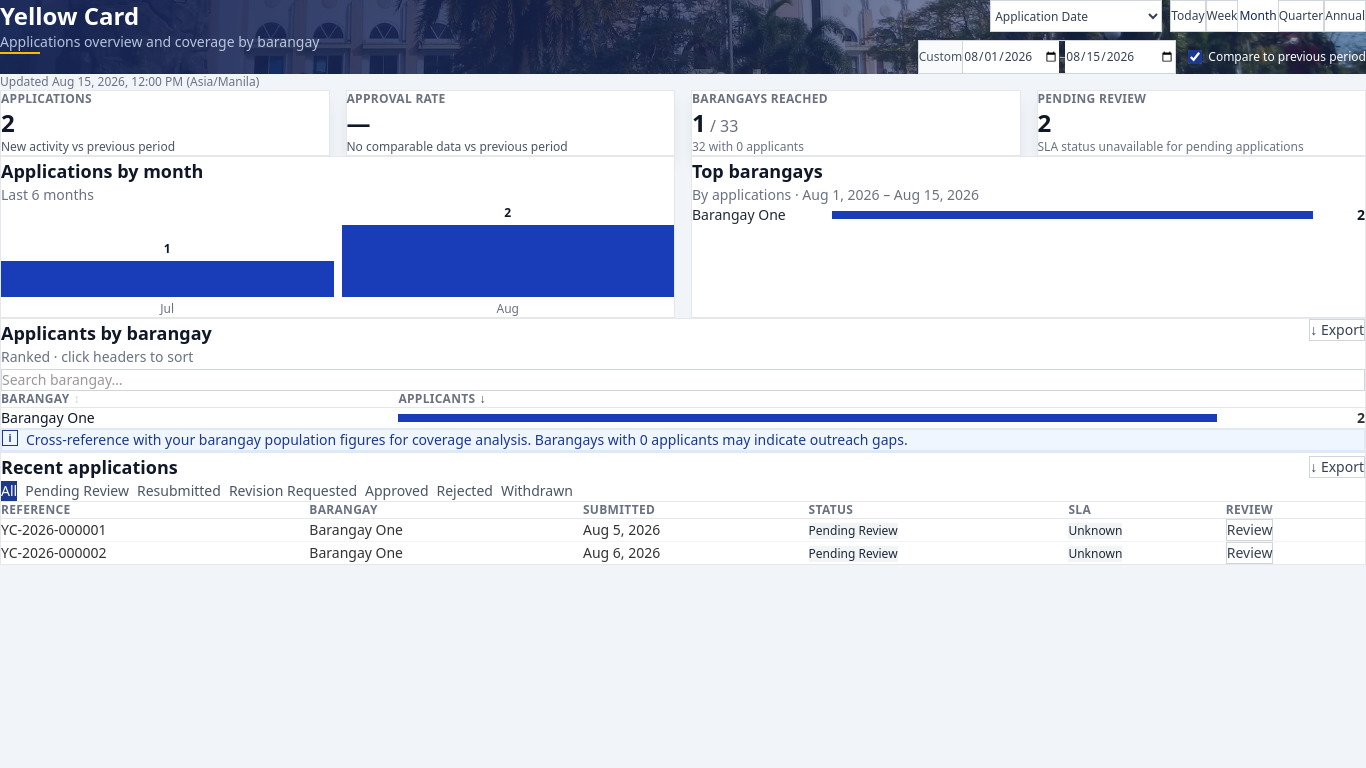
Test case: YellowCardPage › changing the date type recalculates the KPIs from the corresponding date field
Expected: the text "YC-2026-000001" is shown, [1,518,309,542]
Expected: the 1st text "2" is shown, [1,106,15,139]
Select "Approval/Completion Date" in the dropdown named "Date type" at (1076, 16), box [990,0,1162,32]
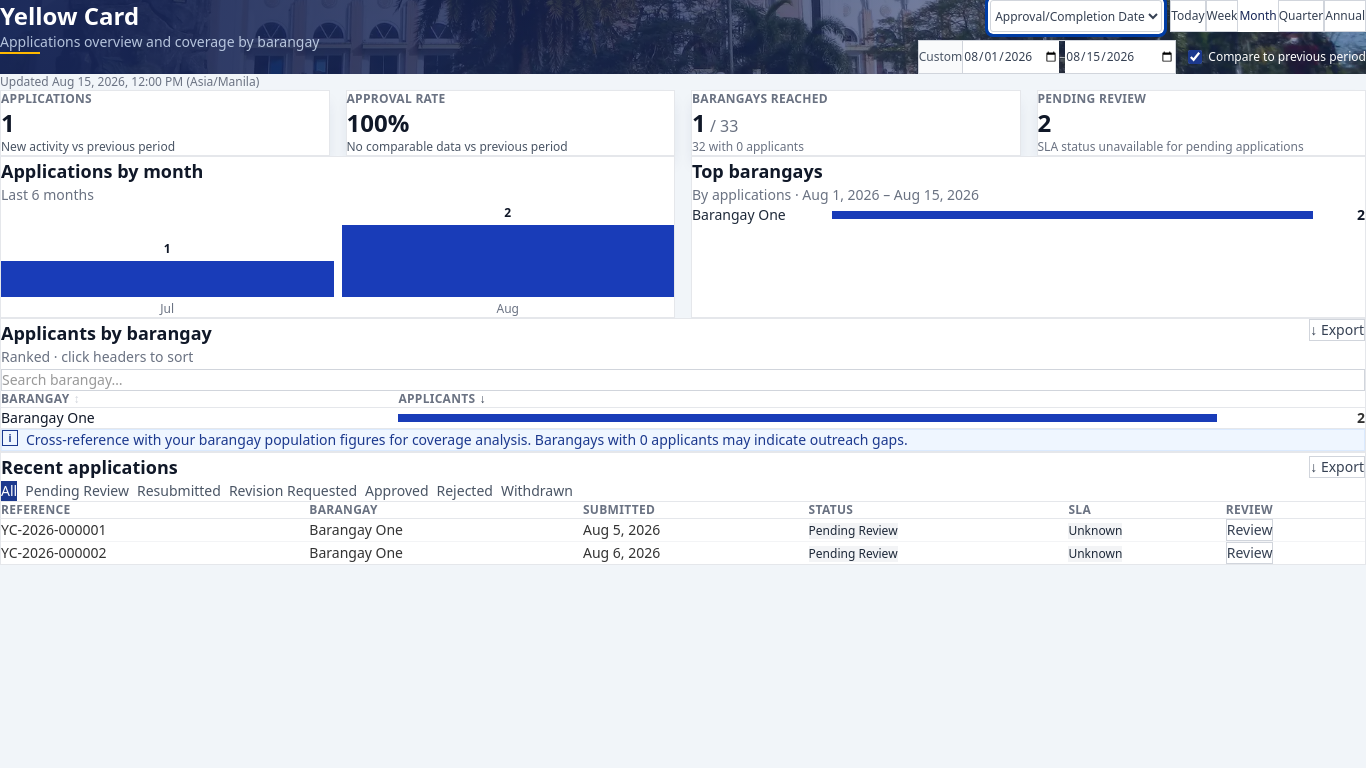
Expected: the text "1" next to "100%" is shown, [1,106,15,139]
Result: the text "100%" is shown at [346,106,409,139]
